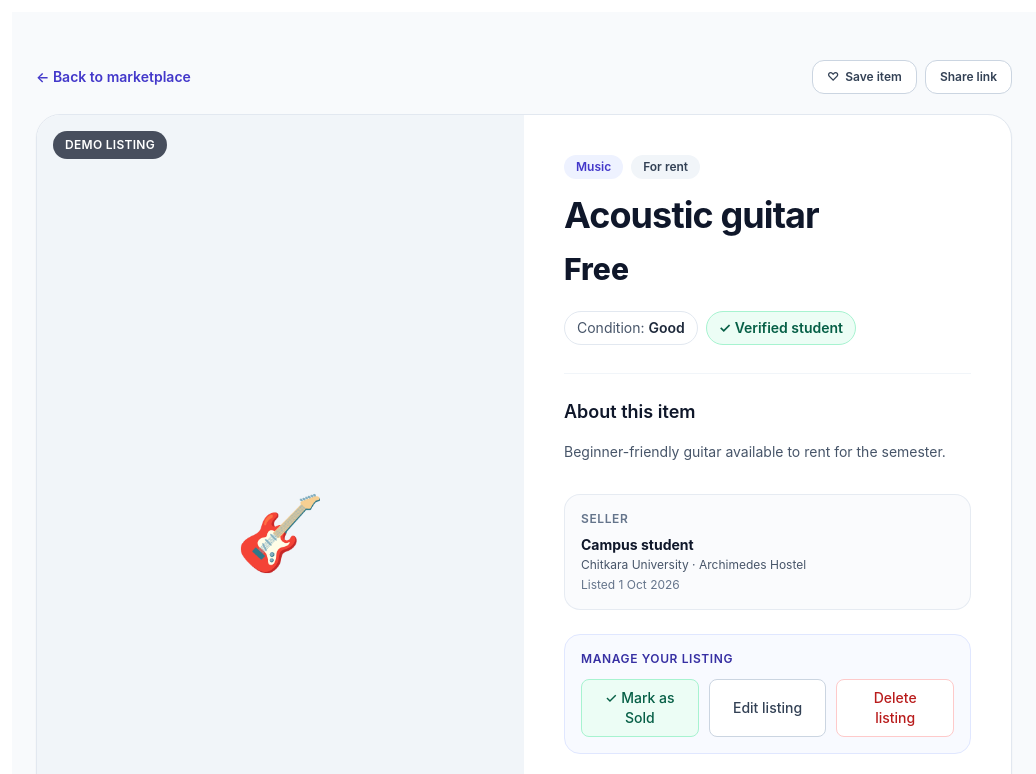
Product details › shows listing controls to the owner and removes the listing through the API
Expected: the heading "Acoustic guitar" is shown, [564,193,819,237]
Click the button "Delete listing". click: (895, 708)
box: [836,679,954,737]
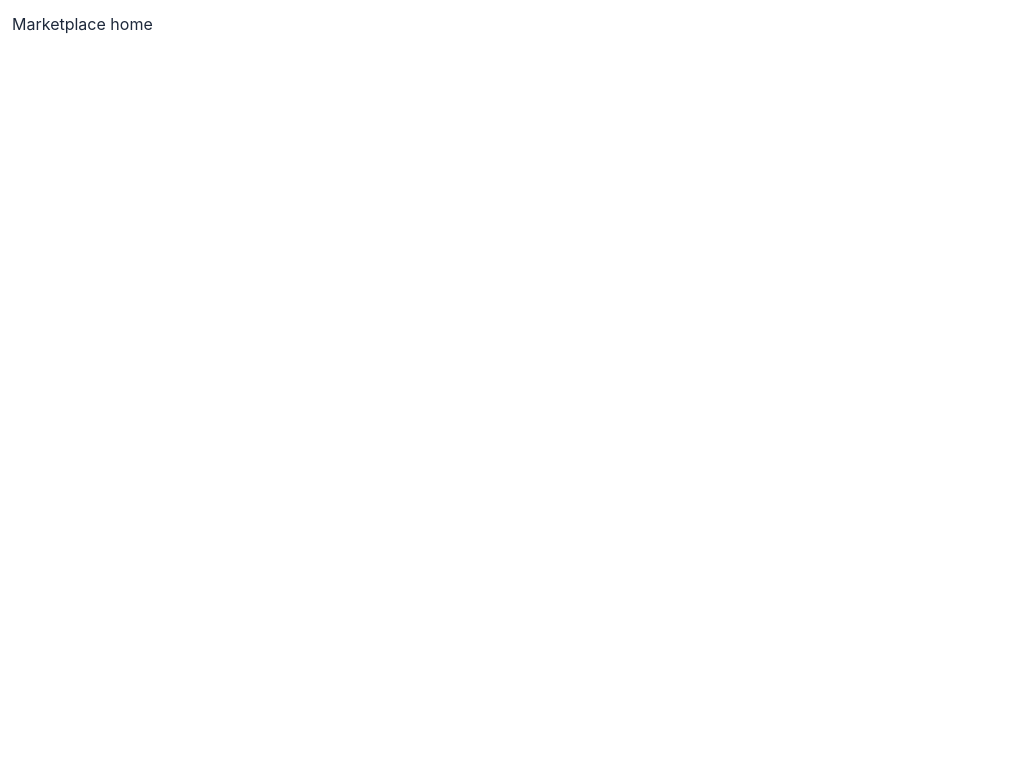
Expected: the heading "Marketplace home" is shown, [12,14,153,34]
